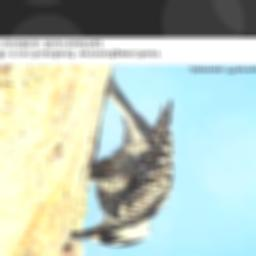Woodpecker: (63, 75, 180, 247)
